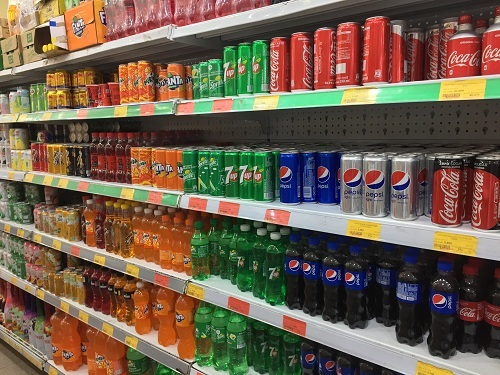7up: (238, 164, 253, 187), (222, 63, 236, 82), (224, 164, 236, 184), (267, 265, 279, 280), (288, 354, 301, 367), (269, 343, 279, 359)
cocacola: (437, 169, 458, 224), (423, 33, 439, 78), (472, 173, 483, 228), (301, 45, 313, 88), (268, 49, 280, 90)
fanta: (70, 19, 87, 38), (167, 70, 183, 87), (62, 348, 75, 359)
mirinda: (142, 73, 154, 87)
pepsi: (390, 170, 410, 191), (364, 170, 384, 190), (343, 166, 361, 187), (316, 164, 330, 184), (433, 292, 447, 312), (279, 165, 293, 184), (288, 259, 300, 274), (325, 268, 337, 282), (344, 271, 355, 286), (305, 352, 317, 365), (302, 262, 311, 277), (323, 361, 335, 372)
sprite: (208, 79, 224, 91)
